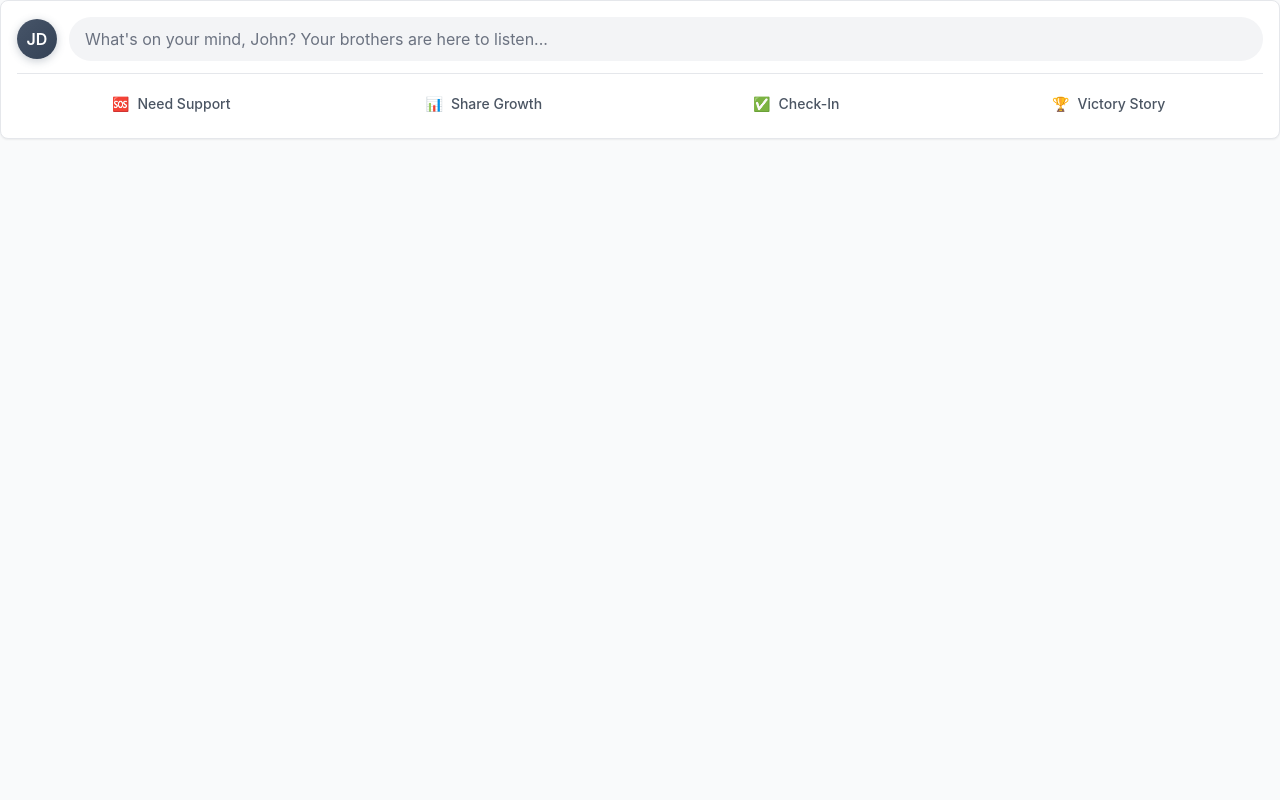
CreatePost Component › Post Creation - Valid Cases › should show character count when typing
Click the button with aria-label "create a new post" at x=168, y=39, box x1=69 y1=17 x2=1263 y2=61
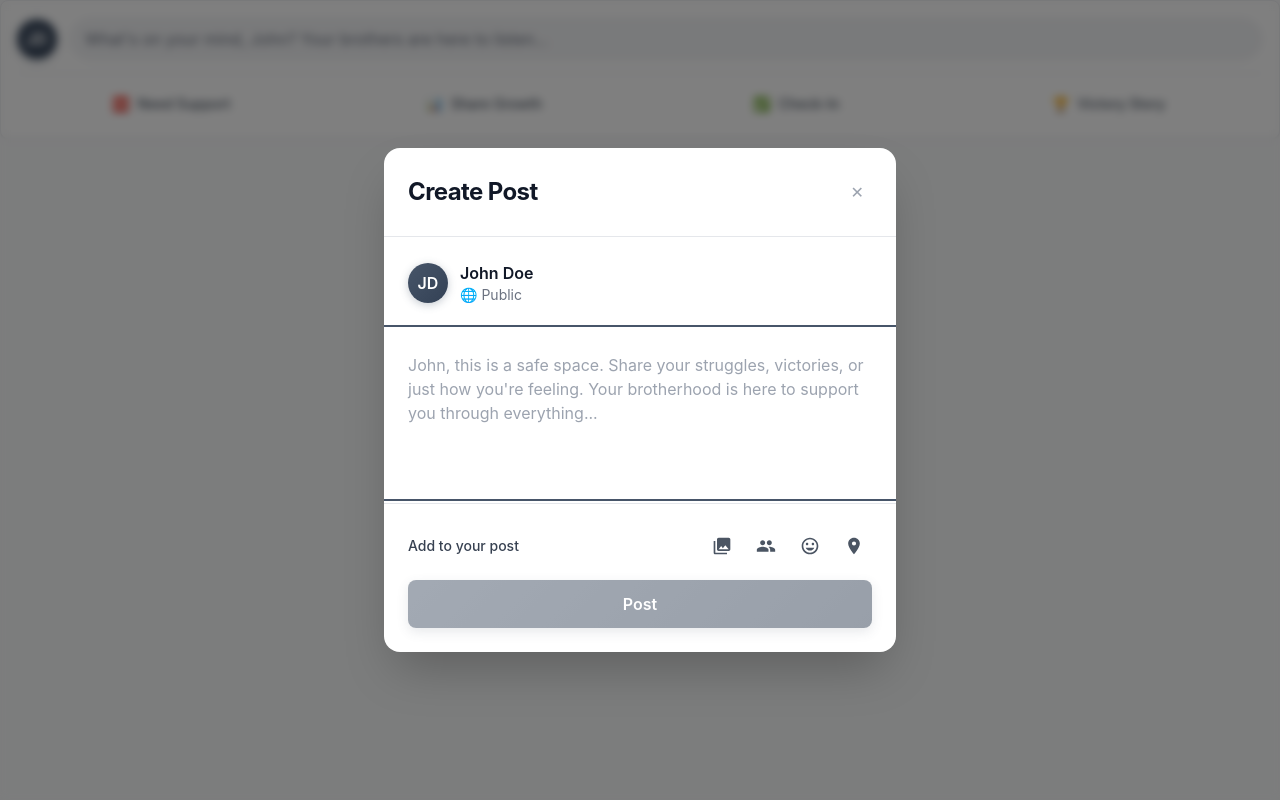
Type "Test" into the text box named "post content" at x=640, y=413, box x1=384 y1=329 x2=896 y2=497
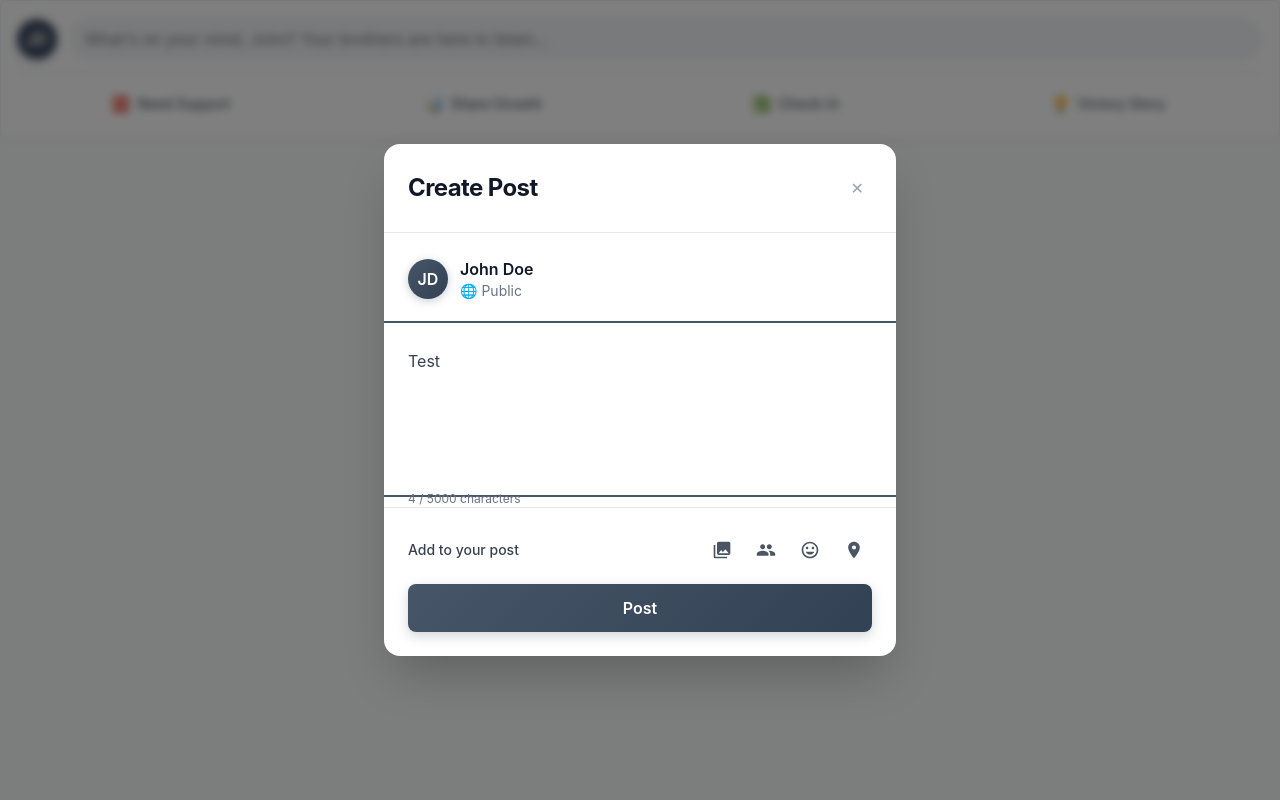
Expected: the text "4 / 5000 characters" is shown, x1=408 y1=491 x2=520 y2=506
